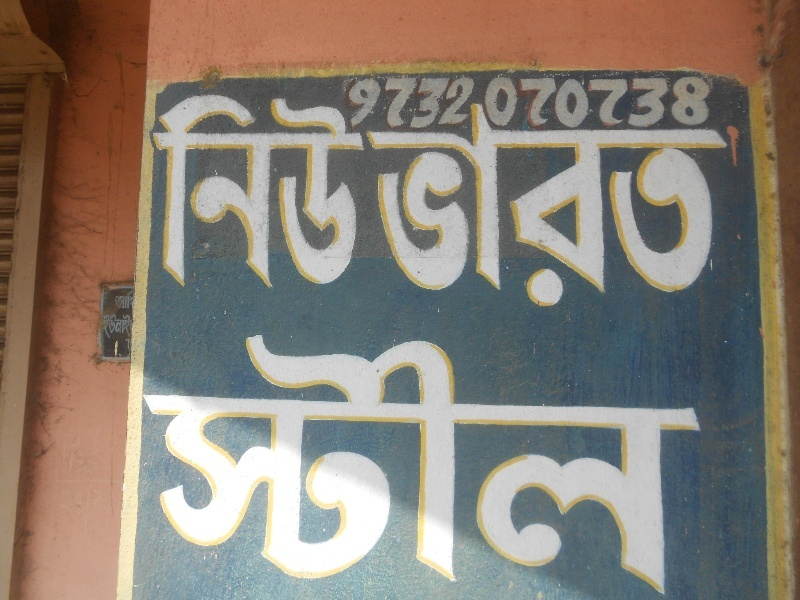text: (145, 326, 160, 597), (161, 326, 176, 597), (177, 326, 192, 597), (193, 326, 208, 597), (209, 326, 224, 597), (225, 326, 240, 597), (241, 326, 256, 597), (257, 326, 272, 597), (273, 326, 288, 597), (289, 326, 304, 597), (305, 326, 320, 597), (321, 326, 336, 597), (337, 326, 352, 597), (353, 326, 368, 597), (369, 326, 384, 597), (385, 326, 400, 597), (401, 326, 416, 597), (417, 326, 432, 597), (433, 326, 448, 597), (449, 326, 464, 597), (465, 326, 480, 597), (481, 326, 496, 597), (497, 326, 512, 597), (513, 326, 528, 597), (529, 326, 544, 597), (545, 326, 560, 597), (561, 326, 576, 597), (577, 326, 592, 597), (593, 326, 608, 597), (609, 326, 624, 597), (625, 326, 640, 597), (641, 326, 656, 597), (657, 326, 672, 597), (673, 326, 688, 597), (689, 326, 703, 597), (369, 102, 384, 308), (385, 102, 400, 308), (401, 102, 416, 308), (417, 102, 432, 308), (433, 102, 448, 308), (449, 102, 464, 308), (465, 102, 480, 308), (481, 102, 496, 308), (497, 102, 512, 308), (513, 102, 528, 308), (529, 102, 544, 308), (545, 102, 560, 308), (561, 102, 576, 308), (577, 102, 592, 308), (593, 102, 608, 308), (609, 102, 624, 308), (625, 102, 640, 308), (641, 102, 656, 308), (657, 102, 672, 308), (673, 102, 688, 308), (689, 102, 704, 308), (705, 102, 720, 308), (161, 94, 176, 288), (177, 94, 192, 288), (193, 94, 208, 288), (209, 94, 224, 288), (225, 94, 240, 288), (241, 94, 256, 288), (257, 94, 272, 288), (273, 94, 288, 288), (289, 94, 304, 288), (305, 94, 320, 288), (321, 94, 336, 288), (337, 94, 352, 288), (353, 94, 368, 288), (151, 94, 160, 288), (721, 102, 728, 308), (141, 326, 144, 597), (353, 80, 368, 125), (369, 80, 384, 125), (385, 80, 400, 125), (401, 80, 416, 125), (417, 80, 432, 125), (433, 80, 448, 125), (449, 80, 464, 125), (465, 80, 480, 125), (481, 80, 496, 125), (497, 80, 512, 125), (513, 80, 528, 125), (529, 80, 544, 125), (545, 80, 560, 125), (561, 80, 576, 125), (577, 80, 592, 125), (593, 80, 608, 125), (609, 80, 624, 125), (625, 80, 640, 125), (641, 80, 656, 125), (657, 80, 672, 125), (673, 80, 688, 125), (689, 80, 704, 125), (366, 102, 368, 308), (113, 313, 128, 339), (115, 290, 128, 309), (103, 313, 112, 339), (129, 313, 133, 339), (129, 290, 134, 309), (705, 80, 707, 125), (351, 80, 352, 125), (129, 338, 132, 353), (126, 338, 128, 353)
